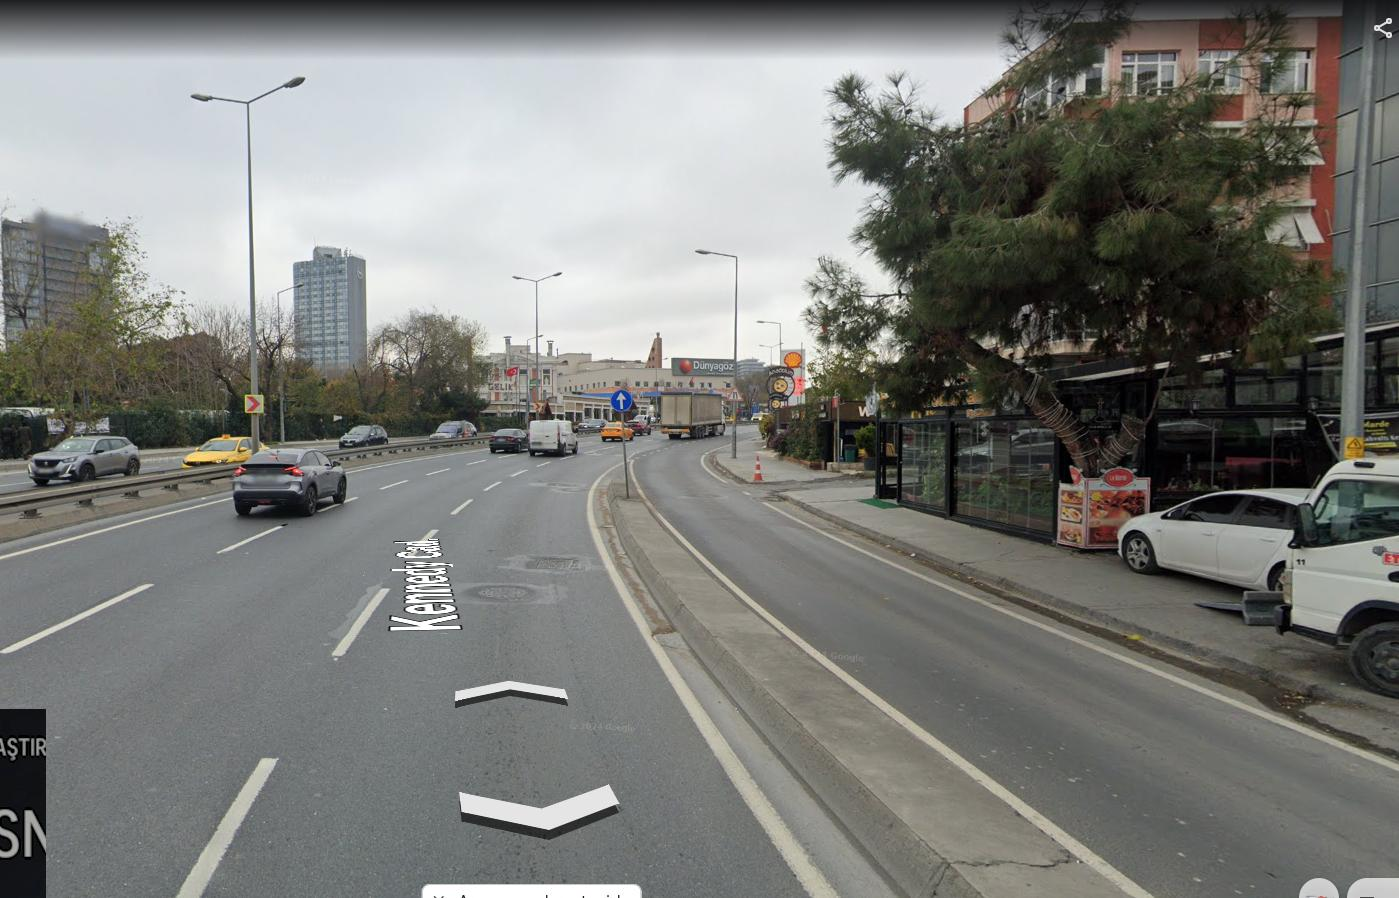forward: (612, 391, 632, 411)
